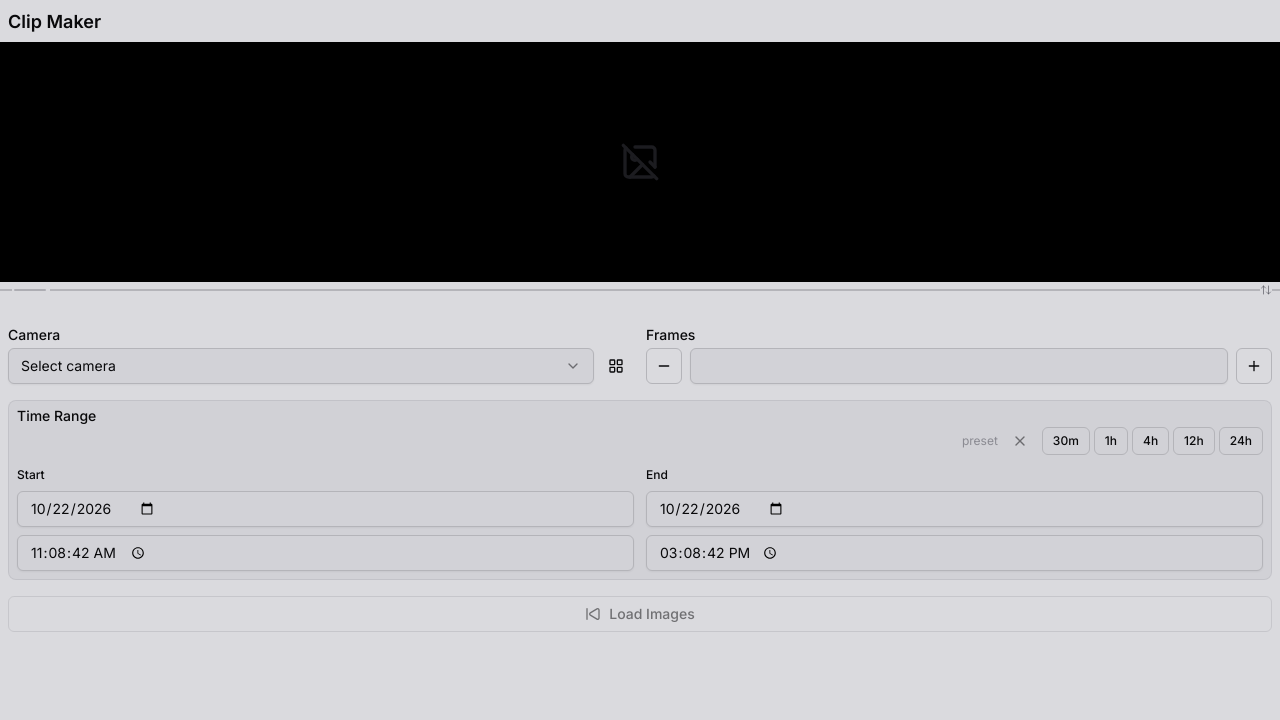
Test: multi-cam loading finishes even when one camera has more frames than the concurrent-decode cap
This screenshot has width=1280, height=720.
Click the button named "Switch to multi-camera": (616, 366) 598,348 -> 634,384
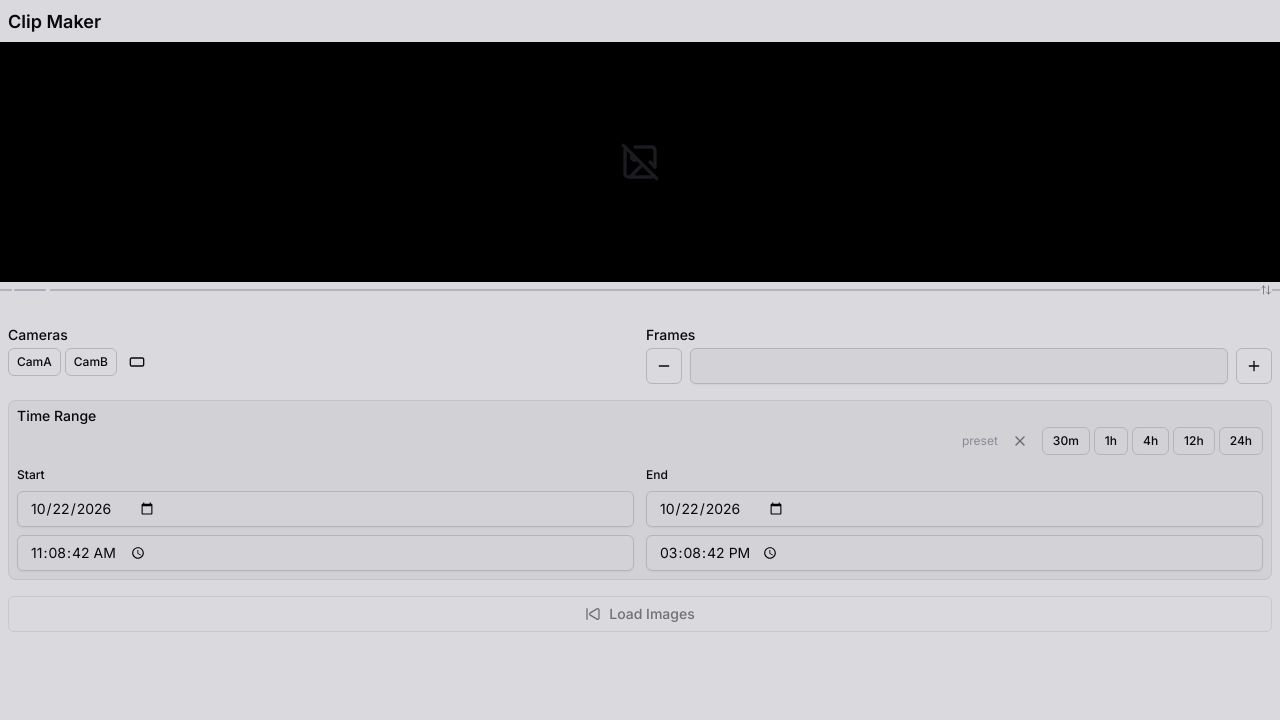
Click the button "CamA": (34, 362) 8,348 -> 61,376
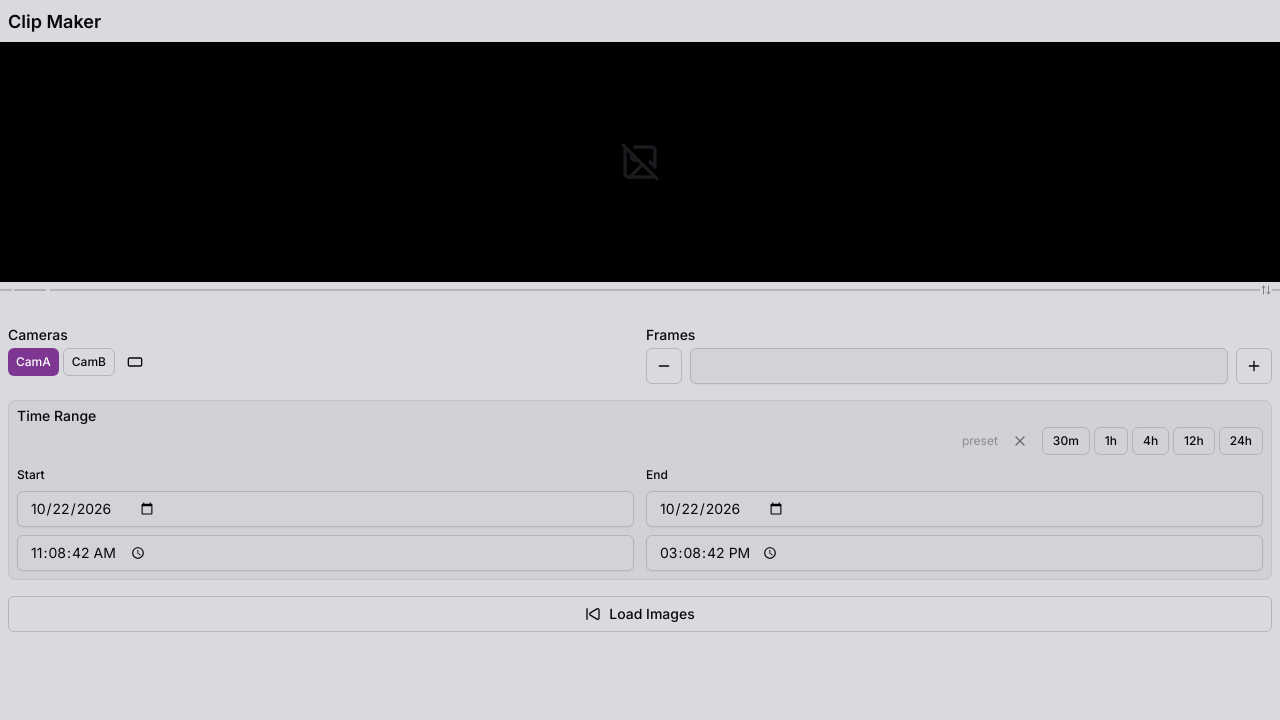
Click the button "CamB": (89, 362) 63,348 -> 115,376
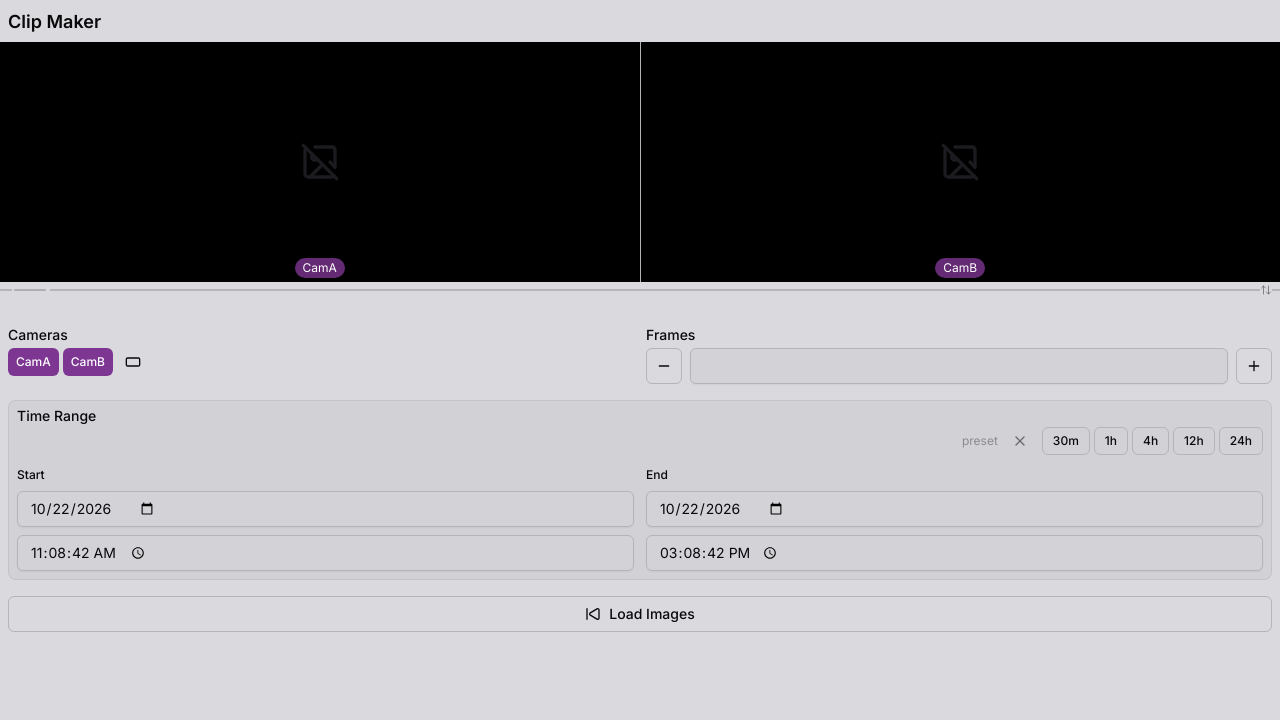
Click the button "Load Images": (640, 614) 8,596 -> 1272,632
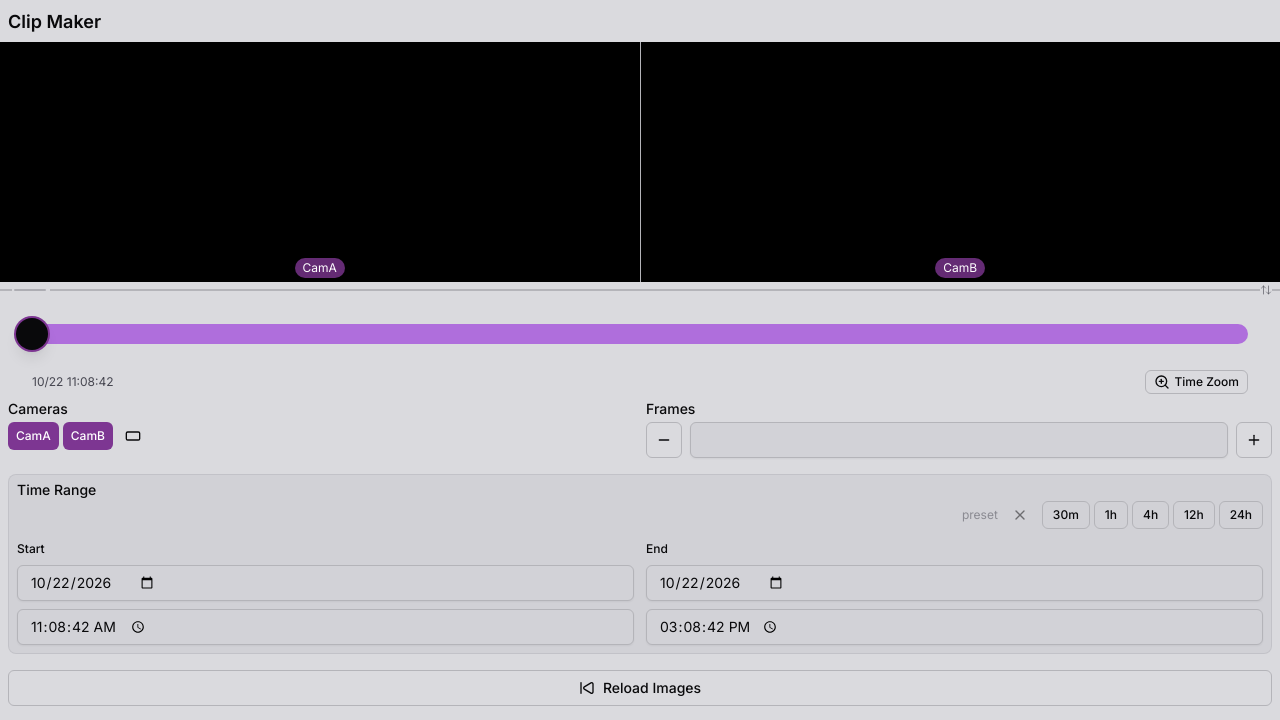
Expected: the button "Reload Images" is shown, 8,670 -> 1272,706
